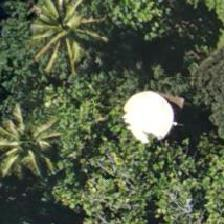coconut_tree: (0, 87, 76, 177), (15, 0, 105, 59)
